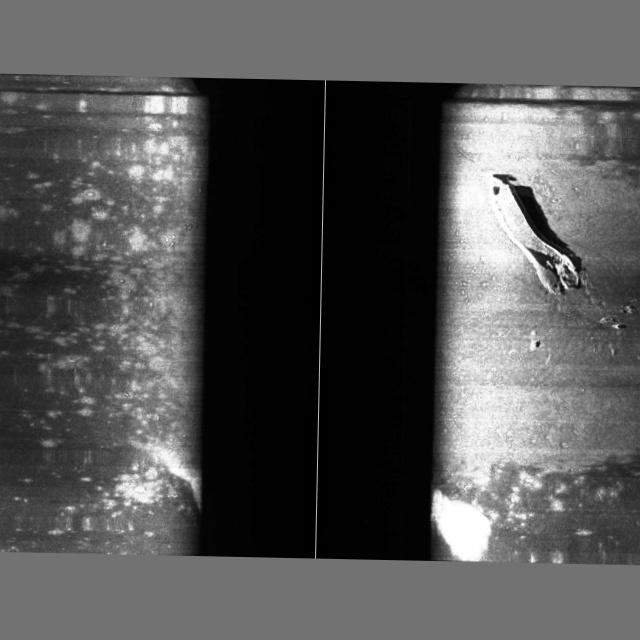Shipwreck: (483, 174, 636, 392)
